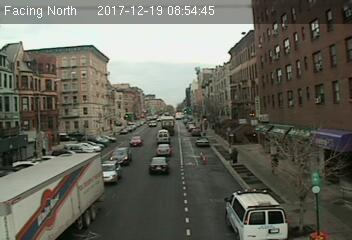car: (98, 160, 122, 184), (109, 147, 131, 165), (147, 155, 168, 173), (156, 144, 172, 159), (128, 136, 143, 147), (195, 136, 208, 146)
pedestrian: (271, 153, 280, 177)
police: (222, 187, 287, 240)
truck: (156, 129, 170, 144)
